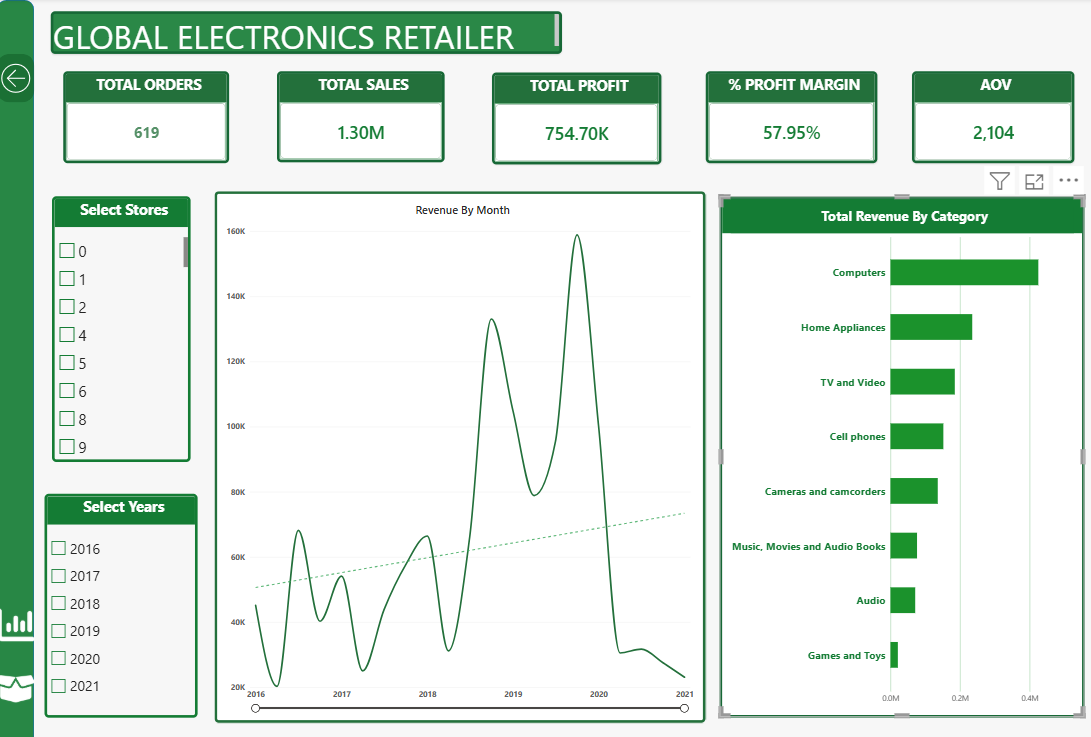

The page's visual inventory and layout, read from the dashboard file:
{"tool":"powerbi","page":{"name":"  Revenue & Profit ","canvas":[1990,1350],"ordinal":0},"visuals":[{"type":"cardVisual","title":"TOTAL ORDERS ","fields":{"Data":["Measure Table.Total Orders"]},"box":[121.4,129.8,301.5,167.5],"z":0},{"type":"textbox","box":[98.4,20.9,929.6,77.5],"z":1000},{"type":"shape","box":[0,0,67.3,1399.7],"z":2000},{"type":"cardVisual","title":"TOTAL SALES ","fields":{"Data":["Measure Table.Total Revenue"]},"box":[508.8,129.8,305.1,165.8],"z":3000},{"type":"cardVisual","title":"TOTAL PROFIT ","fields":{"Data":["Measure Table.Total Profit"]},"box":[900,131,307.8,167.5],"z":4000},{"type":"cardVisual","title":"% PROFIT MARGIN ","fields":{"Data":["Measure Table.% Profit Margin"]},"box":[1288.1,128.6,312,167.5],"z":5000},{"type":"cardVisual","title":"AOV","fields":{"Data":["Measure Table.Average  Order Value (AOV)"]},"box":[1664.3,128.6,295.2,167.5],"z":6000},{"type":"slicer","title":"Select  Years ","fields":{"Values":["Sales.Start of Year"]},"box":[85.7,897.6,278.6,406.8],"z":7000},{"type":"slicer","title":"Select  Stores ","fields":{"Values":["Sales.StoreKey"]},"box":[100,357.1,252.4,483.3],"z":8000},{"type":"clusteredBarChart","title":"Total Revenue By  Category","fields":{"Category":["Products.Category"],"Y":["Measure Table.Total Revenue"]},"box":[1312.8,356.4,664.3,947.6],"z":9000},{"type":"lineChart","title":"Revenue By Month","fields":{"Category":["Sales.Start of Month.Variation.Date Hierarchy.Year","Sales.Start of Month.Variation.Date Hierarchy.Quarter","Sales.Start of Month.Variation.Date Hierarchy.Month","Sales.Start of Month.Variation.Date Hierarchy.Day"],"Y":["Measure Table.Total Revenue"]},"box":[395.2,347.6,892.9,966.7],"z":10000},{"type":"actionButton","box":[0,97.7,68.2,88.6],"z":10001},{"type":"image","box":[0,1093.2,68.2,86.4],"z":10002},{"type":"image","box":[0,1209.1,68.2,86.4],"z":10003}]}

Visuals, with their boxes in screenshot pixels (x1, y1, x2, y2):
"TOTAL ORDERS " cardVisual: [62,70,224,160]
textbox: [50,11,550,53]
shape: [0,0,33,736]
"TOTAL SALES " cardVisual: [271,70,435,159]
"TOTAL PROFIT " cardVisual: [481,70,646,160]
"% PROFIT MARGIN " cardVisual: [690,69,857,159]
"AOV" cardVisual: [892,69,1050,159]
"Select  Years " slicer: [43,482,193,701]
"Select  Stores " slicer: [51,192,187,452]
"Total Revenue By  Category" clusteredBarChart: [703,192,1060,701]
"Revenue By Month" lineChart: [210,187,690,706]
actionButton: [0,53,34,100]
image: [0,588,34,634]
image: [0,650,34,696]
